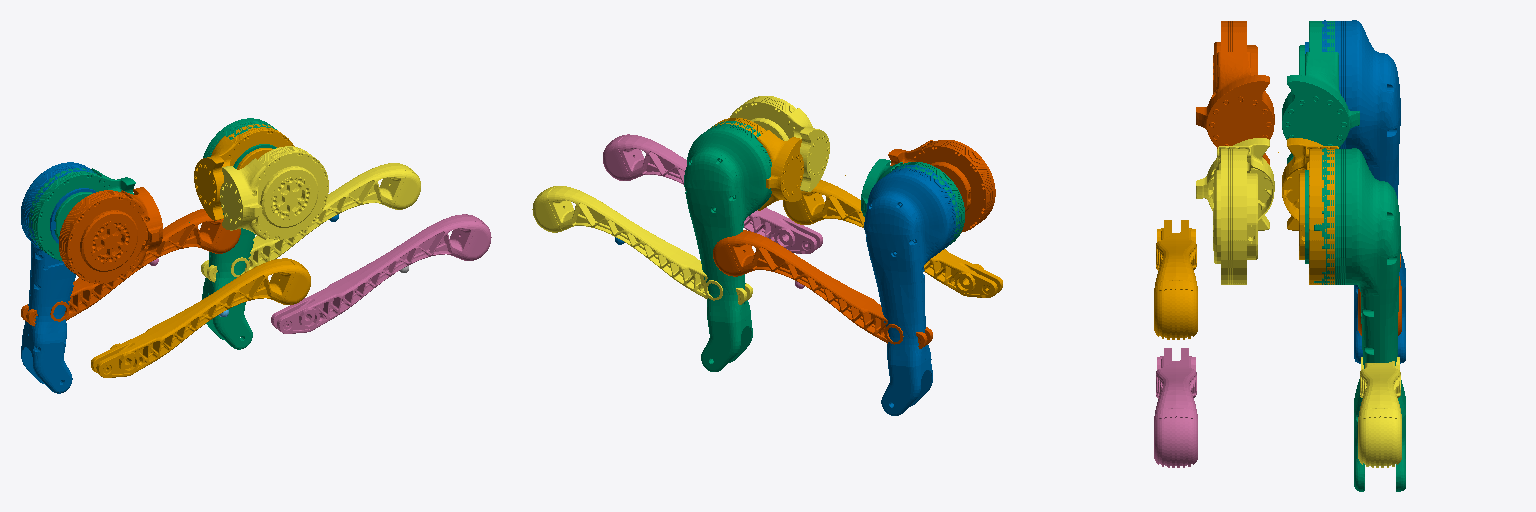
--- Render facts (derived) ---
The picture shows the robot from 3 angles, left to right: view 1: azimuth 30°, elevation 25°; view 2: azimuth 150°, elevation 25°; view 3: azimuth 270°, elevation 25°; orthographic projection.
Model go1 with 38 links and 37 joints (12 revolute, 25 fixed), rooted at base, posed joints at zero except 4 at the middle of their limits (FR_calf_joint = -1.78, FL_calf_joint = -1.78, RR_calf_joint = -1.78, RL_calf_joint = -1.78).
Visible links, largest first — view 1: FR_hip, RR_hip, RR_calf, FR_calf, RL_thigh, FL_calf, RL_calf, FL_thigh, RL_hip, FL_hip; view 2: RL_thigh, FL_thigh, FL_calf, RL_calf, FR_calf, RR_calf, RR_hip, FR_hip, FL_hip, RL_hip; view 3: FL_thigh, RL_thigh, FR_hip, RR_hip, RL_hip, FL_hip, FR_calf, RR_calf, FL_calf.
Link boxes in pixels (x1,y1,x2,y2): FR_hip: (220, 146, 328, 239); RR_hip: (59, 187, 162, 283); RR_calf: (91, 258, 310, 377); FR_calf: (271, 214, 491, 333); RL_thigh: (21, 162, 95, 393); FL_calf: (201, 163, 420, 282); RL_calf: (21, 209, 240, 326); FL_thigh: (202, 118, 276, 349); RL_hip: (29, 168, 135, 260); FL_hip: (194, 124, 294, 220); RL_thigh: (864, 165, 960, 415); FL_thigh: (684, 121, 771, 371); FL_calf: (532, 186, 752, 304); RL_calf: (713, 230, 932, 348); FR_calf: (603, 134, 822, 253); RR_calf: (783, 180, 1002, 297); RR_hip: (888, 140, 995, 232); FR_hip: (730, 96, 829, 191); FL_hip: (711, 118, 803, 210); RL_hip: (861, 159, 964, 246); FL_thigh: (1305, 148, 1405, 491); RL_thigh: (1305, 20, 1405, 363); FR_hip: (1196, 138, 1274, 284); RR_hip: (1196, 21, 1274, 164); RL_hip: (1282, 21, 1359, 163); FL_hip: (1282, 138, 1338, 284); FR_calf: (1154, 348, 1197, 467); RR_calf: (1154, 220, 1197, 339); FL_calf: (1358, 357, 1401, 467).
Bounding box of the posed robot: 0.8438 × 0.313 × 0.4589 m (x, y, z).
10 mesh visuals loaded from 7 distinct referenced files (3 Collada DAE); not drawn: 11 (reference not matched to a file when rendering).

robot.urdf — go1:
<?xml version="1.0" ?>
<!-- =================================================================================== -->
<!-- |    This document was autogenerated by xacro from robot.xacro                    | -->
<!-- |    EDITING THIS FILE BY HAND IS NOT RECOMMENDED                                 | -->
<!-- =================================================================================== -->
<robot name="go1" xmlns:xacro="http://www.ros.org/wiki/xacro">
  <material name="black">
    <color rgba="0.0 0.0 0.0 1.0"/>
  </material>
  <material name="blue">
    <color rgba="0.0 0.0 0.8 1.0"/>
  </material>
  <material name="green">
    <color rgba="0.0 0.8 0.0 1.0"/>
  </material>
  <material name="grey">
    <color rgba="0.2 0.2 0.2 1.0"/>
  </material>
  <material name="silver">
    <color rgba="0.913725490196 0.913725490196 0.847058823529 1.0"/>
  </material>
  <material name="orange">
    <color rgba="1.0 0.423529411765 0.0392156862745 1.0"/>
  </material>
  <material name="brown">
    <color rgba="0.870588235294 0.811764705882 0.764705882353 1.0"/>
  </material>
  <material name="red">
    <color rgba="0.8 0.0 0.0 1.0"/>
  </material>
  <material name="white">
    <color rgba="1.0 1.0 1.0 1.0"/>
  </material>
  <!-- ros_control plugin -->
  <gazebo>
    <plugin filename="libgazebo_ros_control.so" name="gazebo_ros_control">
      <robotNamespace>/go1_gazebo</robotNamespace>
      <robotSimType>gazebo_ros_control/DefaultRobotHWSim</robotSimType>
    </plugin>
  </gazebo>
  <!-- Show the trajectory of trunk center. -->
  <gazebo>
    <plugin filename="libLinkPlot3DPlugin.so" name="3dplot">
      <frequency>10</frequency>
      <plot>
        <link>base</link>
        <pose>0 0 0 0 0 0</pose>
        <material>Gazebo/Yellow</material>
      </plot>
    </plugin>
  </gazebo>
  <!-- Show the trajectory of foot. You can add another trajectory about another foot. -->
  <!-- <gazebo>
        <plugin name="3dplot" filename="libLinkPlot3DPlugin.so">
            <frequency>100</frequency>
            <plot>
                <link>FL_foot</link>
                <pose>0 0 0 0 0 0</pose>
                <material>Gazebo/Green</material>
            </plot>
        </plugin>
    </gazebo> -->
  <gazebo>
    <plugin filename="libgazebo_ros_force.so" name="gazebo_ros_force">
      <bodyName>trunk</bodyName>
      <topicName>/apply_force/trunk</topicName>
    </plugin>
  </gazebo>
  <gazebo reference="imu_link">
    <gravity>true</gravity>
    <sensor name="imu_sensor" type="imu">
      <always_on>true</always_on>
      <update_rate>1000</update_rate>
      <visualize>true</visualize>
      <topic>__default_topic__</topic>
      <plugin filename="libgazebo_ros_imu_sensor.so" name="imu_plugin">
        <topicName>trunk_imu</topicName>
        <bodyName>imu_link</bodyName>
        <updateRateHZ>1000.0</updateRateHZ>
        <gaussianNoise>0.0</gaussianNoise>
        <xyzOffset>0 0 0</xyzOffset>
        <rpyOffset>0 0 0</rpyOffset>
        <frameName>imu_link</frameName>
      </plugin>
      <pose>0 0 0 0 0 0</pose>
    </sensor>
  </gazebo>
  <!-- Depth camera -->
  <!-- <gazebo>
        <plugin name="camera_plugin" filename="libgazebo_ros_openni_kinect.so">
            <baseline>0.025</baseline>
            <always_on>true</always_on>
            <updateRate>0.0</updateRate>
            <cameraName>unitree_camera_left</cameraName>
            <frameName>depthCamera_link_left</frameName>
            <imageTopicName>rgb/imageRaw_left</imageTopicName>
            <depthImageTopicName>depth/imageRaw_left</depthImageTopicName>
            <pointCloudTopicName>depth/points_left</pointCloudTopicName>
            <cameraInfoTopicName>rgb/cameraInfo_left</cameraInfoTopicName>              
            <depthImageCameraInfoTopicName>depth/cameraInfo_left</depthImageCameraInfoTopicName>            
            <pointCloudCutoff>0.1</pointCloudCutoff>                
            <pointCloudCutoffMax>1.5</pointCloudCutoffMax>                
            <distortionK1>0.0</distortionK1>
            <distortionK2>0.0</distortionK2>
            <distortionK3>0.0</distortionK3>
            <distortionT1>0.0</distortionT1>
            <distortionT2>0.0</distortionT2>
            <CxPrime>0.0</CxPrime>
            <Cx>0.0045</Cx>
            <Cy>0.0039</Cy>
            <focalLength>0.004</focalLength>
            <hackBaseline>0.0</hackBaseline>
        </plugin>
    </gazebo> -->
  <!-- <gazebo reference="depthCamera_link_left">
        <sensor name="unitree_camera_left" type="depth_camera">
            <update_rate>16</update_rate>
            <always_on>true</always_on>
            <visualize>true</visualize>
            <camera>
                <horizontal_fov>2.094</horizontal_fov>
                <image>
                    <width>928</width>
                    <height>800</height>
                    <format>R8G8B8</format>
                </image>
                <depth_camera></depth_camera>
                <clip>
                    <near>0.1</near>
                    <far>100</far>
                </clip>
            </camera>
            <plugin name="camera_plugin" filename="libgazebo_ros_openni_kinect.so">
                <baseline>0.025</baseline>
                <always_on>true</always_on>
                <updateRate>0.0</updateRate>
                <cameraName>unitree_camera_left</cameraName>
                <frameName>depthCamera_link_left</frameName>
                <imageTopicName>rgb/imageRaw_left</imageTopicName>
                <depthImageTopicName>depth/imageRaw_left</depthImageTopicName>
                <pointCloudTopicName>depth/points_left</pointCloudTopicName>
                <cameraInfoTopicName>rgb/cameraInfo_left</cameraInfoTopicName>              
                <depthImageCameraInfoTopicName>depth/cameraInfo_left</depthImageCameraInfoTopicName>            
                <pointCloudCutoff>0.1</pointCloudCutoff>                
                <pointCloudCutoffMax>1.5</pointCloudCutoffMax>                
                <distortionK1>0.0</distortionK1>
                <distortionK2>0.0</distortionK2>
                <distortionK3>0.0</distortionK3>
                <distortionT1>0.0</distortionT1>
                <distortionT2>0.0</distortionT2>
                <CxPrime>0.0</CxPrime>
                <Cx>0.0045</Cx>
                <Cy>0.0039</Cy>
                <focalLength>0.004</focalLength>
                <hackBaseline>0.0</hackBaseline>
            </plugin>
        </sensor>
    </gazebo> -->
  <gazebo reference="depthCamera_link_left">
    <sensor name="camera_link_camera" type="depth">
      <update_rate>20</update_rate>
      <camera>
        <horizontal_fov>1.047198</horizontal_fov>
        <image>
          <width>640</width>
          <height>480</height>
          <format>R8G8B8</format>
        </image>
        <clip>
          <near>0.05</near>
          <far>3</far>
        </clip>
      </camera>
      <plugin filename="libgazebo_ros_openni_kinect.so" name="camera_link_controller">
        <baseline>0.2</baseline>
        <alwaysOn>true</alwaysOn>
        <updateRate>1.0</updateRate>
        <cameraName>camera_link_ir</cameraName>
        <imageTopicName>/camera_link/color/image_raw</imageTopicName>
        <cameraInfoTopicName>/camera_link/color/camera_info</cameraInfoTopicName>
        <depthImageTopicName>/camera_link/depth/image_raw</depthImageTopicName>
        <depthImageInfoTopicName>/camera_link/depth/camera_info</depthImageInfoTopicName>
        <pointCloudTopicName>/camera_link/depth/points</pointCloudTopicName>
        <frameName>depthCamera_link_left</frameName>
        <pointCloudCutoff>0.5</pointCloudCutoff>
        <pointCloudCutoffMax>3.0</pointCloudCutoffMax>
        <distortionK1>0.00000001</distortionK1>
        <distortionK2>0.00000001</distortionK2>
        <distortionK3>0.00000001</distortionK3>
        <distortionT1>0.00000001</distortionT1>
        <distortionT2>0.00000001</distortionT2>
        <CxPrime>0</CxPrime>
        <Cx>0</Cx>
        <Cy>0</Cy>
        <focalLength>0</focalLength>
        <hackBaseline>0</hackBaseline>
      </plugin>
    </sensor>
  </gazebo>
  <!-- Foot contacts. -->
  <gazebo reference="FR_calf">
    <sensor name="FR_foot_contact" type="contact">
      <update_rate>100</update_rate>
      <plugin filename="libunitreeFootContactPlugin.so" name="contactPlugin"/>
      <contact>
        <collision>FR_calf_fixed_joint_lump__FR_foot_collision_1</collision>
      </contact>
    </sensor>
  </gazebo>
  <gazebo reference="FL_calf">
    <sensor name="FL_foot_contact" type="contact">
      <update_rate>100</update_rate>
      <plugin filename="libunitreeFootContactPlugin.so" name="contactPlugin"/>
      <contact>
        <collision>FL_calf_fixed_joint_lump__FL_foot_collision_1</collision>
      </contact>
    </sensor>
  </gazebo>
  <gazebo reference="RR_calf">
    <sensor name="RR_foot_contact" type="contact">
      <update_rate>100</update_rate>
      <plugin filename="libunitreeFootContactPlugin.so" name="contactPlugin"/>
      <contact>
        <collision>RR_calf_fixed_joint_lump__RR_foot_collision_1</collision>
      </contact>
    </sensor>
  </gazebo>
  <gazebo reference="RL_calf">
    <sensor name="RL_foot_contact" type="contact">
      <update_rate>100</update_rate>
      <plugin filename="libunitreeFootContactPlugin.so" name="contactPlugin"/>
      <contact>
        <collision>RL_calf_fixed_joint_lump__RL_foot_collision_1</collision>
      </contact>
    </sensor>
  </gazebo>
  <!-- Visualization of Foot contacts. -->
  <gazebo reference="FR_foot">
    <visual>
      <plugin filename="libunitreeDrawForcePlugin.so" name="drawForcePlugin">
        <topicName>FR_foot_contact</topicName>
      </plugin>
    </visual>
  </gazebo>
  <gazebo reference="FL_foot">
    <visual>
      <plugin filename="libunitreeDrawForcePlugin.so" name="drawForcePlugin">
        <topicName>FL_foot_contact</topicName>
      </plugin>
    </visual>
  </gazebo>
  <gazebo reference="RR_foot">
    <visual>
      <plugin filename="libunitreeDrawForcePlugin.so" name="drawForcePlugin">
        <topicName>RR_foot_contact</topicName>
      </plugin>
    </visual>
  </gazebo>
  <gazebo reference="RL_foot">
    <visual>
      <plugin filename="libunitreeDrawForcePlugin.so" name="drawForcePlugin">
        <topicName>RL_foot_contact</topicName>
      </plugin>
    </visual>
  </gazebo>
  <gazebo reference="base">
    <material>Gazebo/Green</material>
    <turnGravityOff>false</turnGravityOff>
  </gazebo>
  <gazebo reference="trunk">
    <mu1>0.2</mu1>
    <mu2>0.2</mu2>
    <kp value="1000000.0"/>
    <kd value="1.0"/>
  </gazebo>
  <gazebo reference="stick_link">
    <mu1>0.2</mu1>
    <mu2>0.2</mu2>
    <material>Gazebo/White</material>
  </gazebo>
  <gazebo reference="imu_link">
    <mu1>0.2</mu1>
    <mu2>0.2</mu2>
    <material>Gazebo/Red</material>
  </gazebo>
  <!-- FL leg -->
  <gazebo reference="FL_hip">
    <mu1>0.2</mu1>
    <mu2>0.2</mu2>
    <material>Gazebo/DarkGrey</material>
  </gazebo>
  <gazebo reference="FL_thigh">
    <mu1>0.2</mu1>
    <mu2>0.2</mu2>
    <self_collide>1</self_collide>
    <material>Gazebo/DarkGrey</material>
    <kp value="1000000.0"/>
    <kd value="1.0"/>
  </gazebo>
  <gazebo reference="FL_calf">
    <mu1>0.2</mu1>
    <mu2>0.2</mu2>
    <self_collide>1</self_collide>
  </gazebo>
  <gazebo reference="FL_foot">
    <mu1>0.6</mu1>
    <mu2>0.6</mu2>
    <self_collide>1</self_collide>
    <material>Gazebo/DarkGrey</material>
    <kp value="1000000.0"/>
    <kd value="1.0"/>
  </gazebo>
  <!-- FR leg -->
  <gazebo reference="FR_hip">
    <mu1>0.2</mu1>
    <mu2>0.2</mu2>
    <material>Gazebo/DarkGrey</material>
  </gazebo>
  <gazebo reference="FR_thigh">
    <mu1>0.2</mu1>
    <mu2>0.2</mu2>
    <self_collide>1</self_collide>
    <material>Gazebo/DarkGrey</material>
    <kp value="1000000.0"/>
    <kd value="1.0"/>
  </gazebo>
  <gazebo reference="FR_calf">
    <mu1>0.2</mu1>
    <mu2>0.2</mu2>
    <self_collide>1</self_collide>
  </gazebo>
  <gazebo reference="FR_foot">
    <mu1>0.6</mu1>
    <mu2>0.6</mu2>
    <self_collide>1</self_collide>
    <material>Gazebo/DarkGrey</material>
    <kp value="1000000.0"/>
    <kd value="1.0"/>
  </gazebo>
  <!-- RL leg -->
  <gazebo reference="RL_hip">
    <mu1>0.2</mu1>
    <mu2>0.2</mu2>
    <material>Gazebo/DarkGrey</material>
  </gazebo>
  <gazebo reference="RL_thigh">
    <mu1>0.2</mu1>
    <mu2>0.2</mu2>
    <self_collide>1</self_collide>
    <material>Gazebo/DarkGrey</material>
    <kp value="1000000.0"/>
    <kd value="1.0"/>
  </gazebo>
  <gazebo reference="RL_calf">
    <mu1>0.2</mu1>
    <mu2>0.2</mu2>
    <self_collide>1</self_collide>
  </gazebo>
  <gazebo reference="RL_foot">
    <mu1>0.6</mu1>
    <mu2>0.6</mu2>
    <self_collide>1</self_collide>
    <material>Gazebo/DarkGrey</material>
    <kp value="1000000.0"/>
    <kd value="1.0"/>
  </gazebo>
  <!-- RR leg -->
  <gazebo reference="RR_hip">
    <mu1>0.2</mu1>
    <mu2>0.2</mu2>
    <material>Gazebo/DarkGrey</material>
  </gazebo>
  <gazebo reference="RR_thigh">
    <mu1>0.2</mu1>
    <mu2>0.2</mu2>
    <self_collide>1</self_collide>
    <material>Gazebo/DarkGrey</material>
    <kp value="1000000.0"/>
    <kd value="1.0"/>
  </gazebo>
  <gazebo reference="RR_calf">
    <mu1>0.2</mu1>
    <mu2>0.2</mu2>
    <self_collide>1</self_collide>
  </gazebo>
  <gazebo reference="RR_foot">
    <mu1>0.6</mu1>
    <mu2>0.6</mu2>
    <self_collide>1</self_collide>
    <material>Gazebo/DarkGrey</material>
    <kp value="1000000.0"/>
    <kd value="1.0"/>
  </gazebo>
  <!-- <xacro:include filename="$(find go1_gazebo)/launch/stairs.urdf.xacro"/> -->
  <!-- <xacro:stairs stairs="15" xpos="0" ypos="0" zpos="0" /> -->
  <!-- Debug mode will hung up the robot, use "true" or "false" to switch it. -->
  <!-- <xacro:if value="$(arg DEBUG)">
        <link name="world"/>
        <joint name="base_static_joint" type="fixed">
            <origin rpy="0 0 0" xyz="0 0 0"/>
            <parent link="world"/>
            <child link="base"/>
        </joint>
    </xacro:if>  -->
  <link name="base">
    <visual>
      <origin rpy="0 0 0" xyz="0 0 0"/>
      <geometry>
        <box size="0.001 0.001 0.001"/>
      </geometry>
    </visual>
  </link>
  <joint name="floating_base" type="fixed">
    <origin rpy="0 0 0" xyz="0 0 0"/>
    <parent link="base"/>
    <child link="trunk"/>
  </joint>
  <link name="trunk">
    <visual>
      <origin rpy="0 0 0" xyz="0 0 0"/>
      <geometry>
        <mesh filename="package://go1_description/meshes/trunk.dae" scale="1 1 1"/>
      </geometry>
      <!-- <material name="orange"/> -->
    </visual>
    <collision>
      <origin rpy="0 0 0" xyz="0 0 0"/>
      <geometry>
        <box size="0.3762 0.0935 0.114"/>
      </geometry>
    </collision>
    <inertial>
      <origin rpy="0 0 0" xyz="0.0223 0.002 -0.0005"/>
      <mass value="5.204"/>
      <inertia ixx="0.0168352186" ixy="0.0004636141" ixz="0.0002367952" iyy="0.0656071082" iyz="3.6671e-05" izz="0.0742720659"/>
    </inertial>
  </link>
  <joint name="imu_joint" type="fixed">
    <parent link="trunk"/>
    <child link="imu_link"/>
    <origin rpy="0 0 0" xyz="-0.01592 -0.06659 -0.00617"/>
  </joint>
  <link name="imu_link">
    <inertial>
      <mass value="0.001"/>
      <origin rpy="0 0 0" xyz="0 0 0"/>
      <inertia ixx="0.0001" ixy="0" ixz="0" iyy="0.0001" iyz="0" izz="0.0001"/>
    </inertial>
    <visual>
      <origin rpy="0 0 0" xyz="0 0 0"/>
      <geometry>
        <box size="0.001 0.001 0.001"/>
      </geometry>
      <!-- <material name="red"/> -->
    </visual>
    <collision>
      <origin rpy="0 0 0" xyz="0 0 0"/>
      <geometry>
        <box size=".001 .001 .001"/>
      </geometry>
    </collision>
  </link>
  <joint name="FR_hip_joint" type="revolute">
    <origin rpy="0 0 0" xyz="0.1881 -0.04675 0"/>
    <parent link="trunk"/>
    <child link="FR_hip"/>
    <axis xyz="1 0 0"/>
    <dynamics damping="0.01" friction="0.2"/>
    <limit effort="23.7" lower="-1.0471975512" upper="1.0471975512" velocity="30.1"/>
  </joint>
  <link name="FR_hip">
    <visual>
      <origin rpy="3.14159265359 0 0" xyz="0 0 0"/>
      <geometry>
        <mesh filename="package://go1_description/meshes/hip.dae" scale="1 1 1"/>
      </geometry>
      <!-- <material name="orange"/> -->
    </visual>
    <collision>
      <origin rpy="1.57079632679 0 0" xyz="0 0 0"/>
      <geometry>
        <cylinder length="0.04" radius="0.046"/>
      </geometry>
    </collision>
    <inertial>
      <origin rpy="0 0 0" xyz="-0.00541 0.00074 6e-06"/>
      <mass value="0.591"/>
      <inertia ixx="0.000374268192" ixy="-3.6844422e-05" ixz="-9.86754e-07" iyy="0.000635923669" iyz="1.172894e-06" izz="0.000457647394"/>
    </inertial>
  </link>
  <joint name="FR_hip_fixed" type="fixed">
    <origin rpy="0 0 0" xyz="0 -0.08 0"/>
    <parent link="FR_hip"/>
    <child link="FR_thigh_shoulder"/>
  </joint>
  <!-- this link is only for collision -->
  <link name="FR_thigh_shoulder">
    <collision>
      <origin rpy="1.57079632679 0 0" xyz="0 0 0"/>
      <geometry>
        <cylinder length="0.032" radius="0.041"/>
      </geometry>
    </collision>
  </link>
  <joint name="FR_thigh_joint" type="revolute">
    <origin rpy="0 0 0" xyz="0 -0.08 0"/>
    <parent link="FR_hip"/>
    <child link="FR_thigh"/>
    <axis xyz="0 1 0"/>
    <dynamics damping="0.01" friction="0.2"/>
    <limit effort="23.7" lower="-0.663225115758" upper="2.96705972839" velocity="30.1"/>
  </joint>
  <link name="FR_thigh">
    <visual>
      <origin rpy="0 0 0" xyz="0 0 0"/>
      <geometry>
        <mesh filename="package://go1_description/meshes/thigh_mirror.dae" scale="1 1 1"/>
      </geometry>
      <!-- <material name="orange"/> -->
    </visual>
    <collision>
      <origin rpy="0 1.57079632679 0" xyz="0 0 -0.1065"/>
      <geometry>
        <box size="0.213 0.0245 0.034"/>
      </geometry>
    </collision>
    <inertial>
      <origin rpy="0 0 0" xyz="-0.003468 0.018947 -0.032736"/>
      <mass value="0.92"/>
      <inertia ixx="0.005851561134" ixy="-1.783284e-06" ixz="0.000328291374" iyy="0.005596155105" iyz="-2.1430713e-05" izz="0.00107157026"/>
    </inertial>
  </link>
  <joint name="FR_calf_joint" type="revolute">
    <origin rpy="0 0 0" xyz="0 0 -0.213"/>
    <parent link="FR_thigh"/>
    <child link="FR_calf"/>
    <axis xyz="0 1 0"/>
    <dynamics damping="0.01" friction="0.2"/>
    <limit effort="23.7" lower="-2.72271363311" upper="-0.837758040957" velocity="30.1"/>
  </joint>
  <link name="FR_calf">
    <visual>
      <origin rpy="0 0 0" xyz="0 0 0"/>
      <geometry>
        <mesh filename="package://go1_description/meshes/calf.dae" scale="1 1 1"/>
      </geometry>
      <!-- <material name="orange"/> -->
    </visual>
    <collision>
      <origin rpy="0 1.57079632679 0" xyz="0 0 -0.1065"/>
      <geometry>
        <box size="0.213 0.016 0.016"/>
      </geometry>
    </collision>
    <inertial>
      <origin rpy="0 0 0" xyz="0.006286 0.001307 -0.122269"/>
      <mass value="0.131"/>
      <inertia ixx="0.002939186297" ixy="1.440899e-06" ixz="-0.00010535955" iyy="0.00295576935" iyz="-2.4397752e-05" izz="3.0273372e-05"/>
    </inertial>
  </link>
  <joint name="FR_foot_fixed" type="fixed">
    <origin rpy="0 0 0" xyz="0 0 -0.213"/>
    <parent link="FR_calf"/>
    <child link="FR_foot"/>
  </joint>
  <link name="FR_foot">
    <visual>
      <origin rpy="0 0 0" xyz="0 0 0"/>
      <geometry>
        <sphere radius="0.01"/>
      </geometry>
      <!-- <material name="orange"/> -->
    </visual>
    <collision>
      <origin rpy="0 0 0" xyz="0 0 0"/>
      <geometry>
        <sphere radius="0.02"/>
      </geometry>
    </collision>
    <inertial>
      <mass value="0.06"/>
      <inertia ixx="9.6e-06" ixy="0.0" ixz="0.0" iyy="9.6e-06" iyz="0.0" izz="9.6e-06"/>
    </inertial>
  </link>
  <transmission name="FR_hip_tran">
    <type>transmission_interface/SimpleTransmission</type>
    <joint name="FR_hip_joint">
      <hardwareInterface>hardware_interface/EffortJointInterface</hardwareInterface>
    </joint>
    <actuator name="FR_hip_motor">
      <hardwareInterface>hardware_interface/EffortJointInterface</hardwareInterface>
      <mechanicalReduction>1</mechanicalReduction>
    </actuator>
  </transmission>
  <transmission name="FR_thigh_tran">
    <type>transmission_interface/SimpleTransmission</type>
    <joint name="FR_thigh_joint">
      <hardwareInterface>hardware_interface/EffortJointInterface</hardwareInterface>
    </joint>
    <actuator name="FR_thigh_motor">
      <hardwareInterface>hardware_interface/EffortJointInterface</hardwareInterface>
      <mechanicalReduction>1</mechanicalReduction>
    </actuator>
  </transmission>
  <transmission name="FR_calf_tran">
    <type>transmission_interface/SimpleTransmission</type>
    <joint name="FR_calf_joint">
      <hardwareInterface>hardware_interface/EffortJointInterface</hardwareInterface>
    </joint>
    <actuator name="FR_calf_motor">
      <hardwareInterface>hardware_interface/EffortJointInterface</hardwareInterface>
      <mechanicalReduction>1</mechanicalReduction>
    </actuator>
  </transmission>
  <joint name="FL_hip_joint" type="revolute">
    <origin rpy="0 0 0" xyz="0.1881 0.04675 0"/>
    <parent link="trunk"/>
    <child link="FL_hip"/>
    <axis xyz="1 0 0"/>
    <dynamics damping="0.01" friction="0.2"/>
    <limit effort="23.7" lower="-1.0471975512" upper="1.0471975512" velocity="30.1"/>
  </joint>
  <link name="FL_hip">
    <visual>
      <origin rpy="0 0 0" xyz="0 0 0"/>
      <geometry>
        <mesh filename="package://go1_description/meshes/hip.dae" scale="1 1 1"/>
      </geometry>
      <!-- <material name="orange"/> -->
    </visual>
    <collision>
      <origin rpy="1.57079632679 0 0" xyz="0 0 0"/>
      <geometry>
        <cylinder length="0.04" radius="0.046"/>
      </geometry>
    </collision>
    <inertial>
      <origin rpy="0 0 0" xyz="-0.00541 -0.00074 6e-06"/>
      <mass value="0.591"/>
      <inertia ixx="0.000374268192" ixy="3.6844422e-05" ixz="-9.86754e-07" iyy="0.000635923669" iyz="-1.172894e-06" izz="0.000457647394"/>
    </inertial>
  </link>
  <joint name="FL_hip_fixed" type="fixed">
    <origin rpy="0 0 0" xyz="0 0.08 0"/>
    <parent link="FL_hip"/>
    <child link="FL_thigh_shoulder"/>
  </joint>
  <!-- this link is only for collision -->
  <link name="FL_thigh_shoulder">
    <collision>
      <origin rpy="1.57079632679 0 0" xyz="0 0 0"/>
      <geometry>
        <cylinder length="0.032" radius="0.041"/>
      </geometry>
    </collision>
  </link>
  <joint name="FL_thigh_joint" type="revolute">
    <origin rpy="0 0 0" xyz="0 0.08 0"/>
    <parent link="FL_hip"/>
    <child link="FL_thigh"/>
    <axis xyz="0 1 0"/>
    <dynamics damping="0.01" friction="0.2"/>
    <limit effort="23.7" lower="-0.663225115758" upper="2.96705972839" velocity="30.1"/>
  </joint>
  <link name="FL_thigh">
    <visual>
      <origin rpy="0 0 0" xyz="0 0 0"/>
      <geometry>
        <mesh filename="package://go1_description/meshes/thigh.dae" scale="1 1 1"/>
      </geometry>
      <!-- <material name="orange"/> -->
    </visual>
    <collision>
      <origin rpy="0 1.57079632679 0" xyz="0 0 -0.1065"/>
      <geometry>
        <box size="0.213 0.0245 0.034"/>
      </geometry>
    </collision>
    <inertial>
      <origin rpy="0 0 0" xyz="-0.003468 -0.018947 -0.032736"/>
      <mass value="0.92"/>
      <inertia ixx="0.005851561134" ixy="1.783284e-06" ixz="0.000328291374" iyy="0.005596155105" iyz="2.1430713e-05" izz="0.00107157026"/>
    </inertial>
  </link>
  <joint name="FL_calf_joint" type="revolute">
    <origin rpy="0 0 0" xyz="0 0 -0.213"/>
    <parent link="FL_thigh"/>
    <child link="FL_calf"/>
    <axis xyz="0 1 0"/>
    <dynamics damping="0.01" friction="0.2"/>
    <limit effort="23.7" lower="-2.72271363311" upper="-0.837758040957" velocity="30.1"/>
  </joint>
  <link name="FL_calf">
    <visual>
      <origin rpy="0 0 0" xyz="0 0 0"/>
      <geometry>
        <mesh filename="package://go1_description/meshes/calf.dae" scale="1 1 1"/>
      </geometry>
      <!-- <material name="orange"/> -->
    </visual>
    <collision>
      <origin rpy="0 1.57079632679 0" xyz="0 0 -0.1065"/>
      <geometry>
        <box size="0.213 0.016 0.016"/>
      </geometry>
    </collision>
    <inertial>
      <origin rpy="0 0 0" xyz="0.006286 0.001307 -0.122269"/>
      <mass value="0.131"/>
      <inertia ixx="0.002939186297" ixy="1.440899e-06" ixz="-0.00010535955" iyy="0.00295576935" iyz="-2.4397752e-05" izz="3.0273372e-05"/>
    </inertial>
  </link>
  <joint name="FL_foot_fixed" type="fixed">
    <origin rpy="0 0 0" xyz="0 0 -0.213"/>
    <parent link="FL_calf"/>
    <child link="FL_foot"/>
  </joint>
  <link name="FL_foot">
    <visual>
      <origin rpy="0 0 0" xyz="0 0 0"/>
      <geometry>
        <sphere radius="0.01"/>
      </geometry>
      <!-- <material name="orange"/> -->
    </visual>
    <collision>
      <origin rpy="0 0 0" xyz="0 0 0"/>
      <geometry>
        <sphere radius="0.02"/>
      </geometry>
    </collision>
    <inertial>
      <mass value="0.06"/>
      <inertia ixx="9.6e-06" ixy="0.0" ixz="0.0" iyy="9.6e-06" iyz="0.0" izz="9.6e-06"/>
    </inertial>
  </link>
  <transmission name="FL_hip_tran">
    <type>transmission_interface/SimpleTransmission</type>
    <joint name="FL_hip_joint">
      <hardwareInterface>hardware_interface/EffortJointInterface</hardwareInterface>
    </joint>
    <actuator name="FL_hip_motor">
      <hardwareInterface>hardware_interface/EffortJointInterface</hardwareInterface>
      <mechanicalReduction>1</mechanicalReduction>
    </actuator>
  </transmission>
  <transmission name="FL_thigh_tran">
    <type>transmission_interface/SimpleTransmission</type>
    <joint name="FL_thigh_joint">
      <hardwareInterface>hardware_interface/EffortJointInterface</hardwareInterface>
    </joint>
    <actuator name="FL_thigh_motor">
      <hardwareInterface>hardware_interface/EffortJointInterface</hardwareInterface>
      <mechanicalReduction>1</mechanicalReduction>
    </actuator>
  </transmission>
  <transmission name="FL_calf_tran">
    <type>transmission_interface/SimpleTransmission</type>
    <joint name="FL_calf_joint">
      <hardwareInterface>hardware_interface/EffortJointInterface</hardwareInterface>
    </joint>
    <actuator name="FL_calf_motor">
      <hardwareInterface>hardware_interface/EffortJointInterface</hardwareInterface>
      <mechanicalReduction>1</mechanicalReduction>
    </actuator>
  </transmission>
  <joint name="RR_hip_joint" type="revolute">
    <origin rpy="0 0 0" xyz="-0.1881 -0.04675 0"/>
    <parent link="trunk"/>
    <child link="RR_hip"/>
    <axis xyz="1 0 0"/>
    <dynamics damping="0.01" friction="0.2"/>
    <limit effort="23.7" lower="-1.0471975512" upper="1.0471975512" velocity="30.1"/>
  </joint>
  <link name="RR_hip">
    <visual>
      <origin rpy="3.14159265359 3.14159265359 0" xyz="0 0 0"/>
      <geometry>
        <mesh filename="package://go1_description/meshes/hip.dae" scale="1 1 1"/>
      </geometry>
      <!-- <material name="orange"/> -->
    </visual>
    <collision>
      <origin rpy="1.57079632679 0 0" xyz="0 0 0"/>
      <geometry>
        <cylinder length="0.04" radius="0.046"/>
      </geometry>
    </collision>
    <inertial>
      <origin rpy="0 0 0" xyz="0.00541 0.00074 6e-06"/>
      <mass value="0.591"/>
      <inertia ixx="0.000374268192" ixy="3.6844422e-05" ixz="9.86754e-07" iyy="0.000635923669" iyz="1.172894e-06" izz="0.000457647394"/>
    </inertial>
  </link>
  <joint name="RR_hip_fixed" type="fixed">
    <origin rpy="0 0 0" xyz="0 -0.08 0"/>
    <parent link="RR_hip"/>
    <child link="RR_thigh_shoulder"/>
  </joint>
  <!-- this link is only for collision -->
  <link name="RR_thigh_shoulder">
    <collision>
      <origin rpy="1.57079632679 0 0" xyz="0 0 0"/>
      <geometry>
        <cylinder length="0.032" radius="0.041"/>
      </geometry>
    </collision>
  </link>
  <joint name="RR_thigh_joint" type="revolute">
    <origin rpy="0 0 0" xyz="0 -0.08 0"/>
    <parent link="RR_hip"/>
    <child link="RR_thigh"/>
    <axis xyz="0 1 0"/>
    <dynamics damping="0.01" friction="0.2"/>
    <limit effort="23.7" lower="-0.663225115758" upper="2.96705972839" velocity="30.1"/>
  </joint>
  <link name="RR_thigh">
    <visual>
      <origin rpy="0 0 0" xyz="0 0 0"/>
      <geometry>
        <mesh filename="package://go1_description/meshes/thigh_mirror.dae" scale="1 1 1"/>
      </geometry>
      <!-- <material name="orange"/> -->
    </visual>
    <collision>
      <origin rpy="0 1.57079632679 0" xyz="0 0 -0.1065"/>
      <geometry>
        <box size="0.213 0.0245 0.034"/>
      </geometry>
    </collision>
    <inertial>
      <origin rpy="0 0 0" xyz="-0.003468 0.018947 -0.032736"/>
      <mass value="0.92"/>
      <inertia ixx="0.005851561134" ixy="-1.783284e-06" ixz="0.000328291374" iyy="0.005596155105" iyz="-2.1430713e-05" izz="0.00107157026"/>
    </inertial>
  </link>
  <joint name="RR_calf_joint" type="revolute">
    <origin rpy="0 0 0" xyz="0 0 -0.213"/>
    <parent link="RR_thigh"/>
    <child link="RR_calf"/>
    <axis xyz="0 1 0"/>
    <dynamics damping="0.01" friction="0.2"/>
    <limit effort="23.7" lower="-2.72271363311" upper="-0.837758040957" velocity="30.1"/>
  </joint>
  <link name="RR_calf">
    <visual>
      <origin rpy="0 0 0" xyz="0 0 0"/>
      <geometry>
        <mesh filename="package://go1_description/meshes/calf.dae" scale="1 1 1"/>
      </geometry>
      <!-- <material name="orange"/> -->
    </visual>
    <collision>
      <origin rpy="0 1.57079632679 0" xyz="0 0 -0.1065"/>
      <geometry>
        <box size="0.213 0.016 0.016"/>
      </geometry>
    </collision>
    <inertial>
      <origin rpy="0 0 0" xyz="0.006286 0.001307 -0.122269"/>
      <mass value="0.131"/>
      <inertia ixx="0.002939186297" ixy="1.440899e-06" ixz="-0.00010535955" iyy="0.00295576935" iyz="-2.4397752e-05" izz="3.0273372e-05"/>
    </inertial>
  </link>
  <joint name="RR_foot_fixed" type="fixed">
    <origin rpy="0 0 0" xyz="0 0 -0.213"/>
    <parent link="RR_calf"/>
    <child link="RR_foot"/>
  </joint>
  <link name="RR_foot">
    <visual>
      <origin rpy="0 0 0" xyz="0 0 0"/>
      <geometry>
        <sphere radius="0.01"/>
      </geometry>
      <!-- <material name="orange"/> -->
    </visual>
    <collision>
      <origin rpy="0 0 0" xyz="0 0 0"/>
      <geometry>
        <sphere radius="0.02"/>
      </geometry>
    </collision>
    <inertial>
      <mass value="0.06"/>
      <inertia ixx="9.6e-06" ixy="0.0" ixz="0.0" iyy="9.6e-06" iyz="0.0" izz="9.6e-06"/>
    </inertial>
  </link>
  <transmission name="RR_hip_tran">
    <type>transmission_interface/SimpleTransmission</type>
    <joint name="RR_hip_joint">
      <hardwareInterface>hardware_interface/EffortJointInterface</hardwareInterface>
    </joint>
    <actuator name="RR_hip_motor">
      <hardwareInterface>hardware_interface/EffortJointInterface</hardwareInterface>
      <mechanicalReduction>1</mechanicalReduction>
    </actuator>
  </transmission>
  <transmission name="RR_thigh_tran">
    <type>transmission_interface/SimpleTransmission</type>
    <joint name="RR_thigh_joint">
      <hardwareInterface>hardware_interface/EffortJointInterface</hardwareInterface>
    </joint>
    <actuator name="RR_thigh_motor">
      <hardwareInterface>hardware_interface/EffortJointInterface</hardwareInterface>
      <mechanicalReduction>1</mechanicalReduction>
    </actuator>
  </transmission>
  <transmission name="RR_calf_tran">
    <type>transmission_interface/SimpleTransmission</type>
    <joint name="RR_calf_joint">
      <hardwareInterface>hardware_interface/EffortJointInterface</hardwareInterface>
    </joint>
    <actuator name="RR_calf_motor">
      <hardwareInterface>hardware_interface/EffortJointInterface</hardwareInterface>
      <mechanicalReduction>1</mechanicalReduction>
    </actuator>
  </transmission>
  <joint name="RL_hip_joint" type="revolute">
    <origin rpy="0 0 0" xyz="-0.1881 0.04675 0"/>
    <parent link="trunk"/>
    <child link="RL_hip"/>
    <axis xyz="1 0 0"/>
    <dynamics damping="0.01" friction="0.2"/>
    <limit effort="23.7" lower="-1.0471975512" upper="1.0471975512" velocity="30.1"/>
  </joint>
  <link name="RL_hip">
    <visual>
      <origin rpy="0 3.14159265359 0" xyz="0 0 0"/>
      <geometry>
        <mesh filename="package://go1_description/meshes/hip.dae" scale="1 1 1"/>
      </geometry>
      <!-- <material name="orange"/> -->
    </visual>
    <collision>
      <origin rpy="1.57079632679 0 0" xyz="0 0 0"/>
      <geometry>
        <cylinder length="0.04" radius="0.046"/>
      </geometry>
    </collision>
    <inertial>
      <origin rpy="0 0 0" xyz="0.00541 -0.00074 6e-06"/>
      <mass value="0.591"/>
      <inertia ixx="0.000374268192" ixy="-3.6844422e-05" ixz="9.86754e-07" iyy="0.000635923669" iyz="-1.172894e-06" izz="0.000457647394"/>
    </inertial>
  </link>
  <joint name="RL_hip_fixed" type="fixed">
    <origin rpy="0 0 0" xyz="0 0.08 0"/>
    <parent link="RL_hip"/>
    <child link="RL_thigh_shoulder"/>
  </joint>
  <!-- this link is only for collision -->
  <link name="RL_thigh_shoulder">
    <collision>
      <origin rpy="1.57079632679 0 0" xyz="0 0 0"/>
      <geometry>
        <cylinder length="0.032" radius="0.041"/>
      </geometry>
    </collision>
  </link>
  <joint name="RL_thigh_joint" type="revolute">
    <origin rpy="0 0 0" xyz="0 0.08 0"/>
    <parent link="RL_hip"/>
    <child link="RL_thigh"/>
    <axis xyz="0 1 0"/>
    <dynamics damping="0.01" friction="0.2"/>
    <limit effort="23.7" lower="-0.663225115758" upper="2.96705972839" velocity="30.1"/>
  </joint>
  <link name="RL_thigh">
    <visual>
      <origin rpy="0 0 0" xyz="0 0 0"/>
      <geometry>
        <mesh filename="package://go1_description/meshes/thigh.dae" scale="1 1 1"/>
      </geometry>
      <!-- <material name="orange"/> -->
    </visual>
    <collision>
      <origin rpy="0 1.57079632679 0" xyz="0 0 -0.1065"/>
      <geometry>
        <box size="0.213 0.0245 0.034"/>
      </geometry>
    </collision>
    <inertial>
      <origin rpy="0 0 0" xyz="-0.003468 -0.018947 -0.032736"/>
      <mass value="0.92"/>
      <inertia ixx="0.005851561134" ixy="1.783284e-06" ixz="0.000328291374" iyy="0.005596155105" iyz="2.1430713e-05" izz="0.00107157026"/>
    </inertial>
  </link>
  <joint name="RL_calf_joint" type="revolute">
    <origin rpy="0 0 0" xyz="0 0 -0.213"/>
    <parent link="RL_thigh"/>
    <child link="RL_calf"/>
    <axis xyz="0 1 0"/>
    <dynamics damping="0.01" friction="0.2"/>
    <limit effort="23.7" lower="-2.72271363311" upper="-0.837758040957" velocity="30.1"/>
  </joint>
  <link name="RL_calf">
    <visual>
      <origin rpy="0 0 0" xyz="0 0 0"/>
      <geometry>
        <mesh filename="package://go1_description/meshes/calf.dae" scale="1 1 1"/>
      </geometry>
      <!-- <material name="orange"/> -->
    </visual>
    <collision>
      <origin rpy="0 1.57079632679 0" xyz="0 0 -0.1065"/>
      <geometry>
        <box size="0.213 0.016 0.016"/>
      </geometry>
    </collision>
    <inertial>
      <origin rpy="0 0 0" xyz="0.006286 0.001307 -0.122269"/>
      <mass value="0.131"/>
      <inertia ixx="0.002939186297" ixy="1.440899e-06" ixz="-0.00010535955" iyy="0.00295576935" iyz="-2.4397752e-05" izz="3.0273372e-05"/>
    </inertial>
  </link>
  <joint name="RL_foot_fixed" type="fixed">
    <origin rpy="0 0 0" xyz="0 0 -0.213"/>
    <parent link="RL_calf"/>
    <child link="RL_foot"/>
  </joint>
  <link name="RL_foot">
    <visual>
      <origin rpy="0 0 0" xyz="0 0 0"/>
      <geometry>
        <sphere radius="0.01"/>
      </geometry>
      <!-- <material name="orange"/> -->
    </visual>
    <collision>
      <origin rpy="0 0 0" xyz="0 0 0"/>
      <geometry>
        <sphere radius="0.02"/>
      </geometry>
    </collision>
    <inertial>
      <mass value="0.06"/>
      <inertia ixx="9.6e-06" ixy="0.0" ixz="0.0" iyy="9.6e-06" iyz="0.0" izz="9.6e-06"/>
    </inertial>
  </link>
  <transmission name="RL_hip_tran">
    <type>transmission_interface/SimpleTransmission</type>
    <joint name="RL_hip_joint">
      <hardwareInterface>hardware_interface/EffortJointInterface</hardwareInterface>
    </joint>
    <actuator name="RL_hip_motor">
      <hardwareInterface>hardware_interface/EffortJointInterface</hardwareInterface>
      <mechanicalReduction>1</mechanicalReduction>
    </actuator>
  </transmission>
  <transmission name="RL_thigh_tran">
    <type>transmission_interface/SimpleTransmission</type>
    <joint name="RL_thigh_joint">
      <hardwareInterface>hardware_interface/EffortJointInterface</hardwareInterface>
    </joint>
    <actuator name="RL_thigh_motor">
      <hardwareInterface>hardware_interface/EffortJointInterface</hardwareInterface>
      <mechanicalReduction>1</mechanicalReduction>
    </actuator>
  </transmission>
  <transmission name="RL_calf_tran">
    <type>transmission_interface/SimpleTransmission</type>
    <joint name="RL_calf_joint">
      <hardwareInterface>hardware_interface/EffortJointInterface</hardwareInterface>
    </joint>
    <actuator name="RL_calf_motor">
      <hardwareInterface>hardware_interface/EffortJointInterface</hardwareInterface>
      <mechanicalReduction>1</mechanicalReduction>
    </actuator>
  </transmission>
  <joint name="camera_joint_face" type="fixed">
    <origin rpy="3.14159265359 0 0" xyz="0.2785 0.0125 0.0167"/>
    <parent link="trunk"/>
    <child link="camera_face"/>
  </joint>
  <link name="camera_face">
    <collision>
      <origin rpy="0 0 0" xyz="0 0 0"/>
      <geometry>
        <box size=".001 .001 .001"/>
      </geometry>
    </collision>
    <visual>
      <origin rpy="0 0 0" xyz="0 0 0"/>
      <geometry>
        <mesh filename="package://go1_description/meshes/depthCamera.dae" scale="1 1 1"/>
      </geometry>
    </visual>
    <inertial>
      <mass value="1e-5"/>
      <origin rpy="0 0 0" xyz="0 0 0"/>
      <inertia ixx="1e-6" ixy="0" ixz="0" iyy="1e-6" iyz="0" izz="1e-6"/>
    </inertial>
  </link>
  <joint name="camera_optical_joint_face" type="fixed">
    <origin rpy="-1.57079632679 0 -1.57079632679" xyz="0 0 0"/>
    <parent link="camera_face"/>
    <child link="camera_optical_face"/>
  </joint>
  <link name="camera_optical_face">
        </link>
  <gazebo reference="camera_face">
    <!-- <material>Gazebo/Black</material> -->
    <sensor name="camera_face_camera" type="depth">
      <update_rate>16</update_rate>
      <camera>
        <horizontal_fov>2.094</horizontal_fov>
        <image>
          <width>928</width>
          <height>800</height>
          <format>R8G8B8</format>
        </image>
        <clip>
          <near>0.1</near>
          <far>5</far>
        </clip>
      </camera>
      <plugin filename="libgazebo_ros_openni_kinect.so" name="camera_face_controller">
        <baseline>0.025</baseline>
        <alwaysOn>true</alwaysOn>
        <updateRate>0.0</updateRate>
        <cameraName>camera_face_ir</cameraName>
        <imageTopicName>/camera_face/color/image_raw</imageTopicName>
        <cameraInfoTopicName>/camera_face/color/camera_info</cameraInfoTopicName>
        <depthImageTopicName>/camera_face/depth/image_raw</depthImageTopicName>
        <depthImageInfoTopicName>/camera_face/depth/camera_info</depthImageInfoTopicName>
        <!-- <pointCloudTopicName>/camera_${name}/depth/points</pointCloudTopicName> -->
        <pointCloudTopicName>/cam1/point_cloud_face</pointCloudTopicName>
        <frameName>camera_optical_face</frameName>
        <pointCloudCutoff>0.1</pointCloudCutoff>
        <pointCloudCutoffMax>1.5</pointCloudCutoffMax>
        <distortionK1>0.0</distortionK1>
        <distortionK2>0.0</distortionK2>
        <distortionK3>0.0</distortionK3>
        <distortionT1>0.0</distortionT1>
        <distortionT2>0.0</distortionT2>
        <CxPrime>0</CxPrime>
        <Cx>0.0045</Cx>
        <Cy>0.0039</Cy>
        <focalLength>0</focalLength>
        <hackBaseline>0</hackBaseline>
      </plugin>
    </sensor>
  </gazebo>
  <joint name="camera_joint_chin" type="fixed">
    <origin rpy="3.14159265359 1.57079632679 0" xyz="0.2522 0.0125 -0.0436"/>
    <parent link="trunk"/>
    <child link="camera_chin"/>
  </joint>
  <link name="camera_chin">
    <collision>
      <origin rpy="0 0 0" xyz="0 0 0"/>
      <geometry>
        <box size=".001 .001 .001"/>
      </geometry>
    </collision>
    <visual>
      <origin rpy="0 0 0" xyz="0 0 0"/>
      <geometry>
        <mesh filename="package://go1_description/meshes/depthCamera.dae" scale="1 1 1"/>
      </geometry>
    </visual>
    <inertial>
      <mass value="1e-5"/>
      <origin rpy="0 0 0" xyz="0 0 0"/>
      <inertia ixx="1e-6" ixy="0" ixz="0" iyy="1e-6" iyz="0" izz="1e-6"/>
    </inertial>
  </link>
  <joint name="camera_optical_joint_chin" type="fixed">
    <origin rpy="-1.57079632679 0 -1.57079632679" xyz="0 0 0"/>
    <parent link="camera_chin"/>
    <child link="camera_optical_chin"/>
  </joint>
  <link name="camera_optical_chin">
        </link>
  <gazebo reference="camera_chin">
    <!-- <material>Gazebo/Black</material> -->
    <sensor name="camera_chin_camera" type="depth">
      <update_rate>16</update_rate>
      <camera>
        <horizontal_fov>2.094</horizontal_fov>
        <image>
          <width>928</width>
          <height>800</height>
          <format>R8G8B8</format>
        </image>
        <clip>
          <near>0.1</near>
          <far>5</far>
        </clip>
      </camera>
      <plugin filename="libgazebo_ros_openni_kinect.so" name="camera_chin_controller">
        <baseline>0.025</baseline>
        <alwaysOn>true</alwaysOn>
        <updateRate>0.0</updateRate>
        <cameraName>camera_chin_ir</cameraName>
        <imageTopicName>/camera_chin/color/image_raw</imageTopicName>
        <cameraInfoTopicName>/camera_chin/color/camera_info</cameraInfoTopicName>
        <depthImageTopicName>/camera_chin/depth/image_raw</depthImageTopicName>
        <depthImageInfoTopicName>/camera_chin/depth/camera_info</depthImageInfoTopicName>
        <!-- <pointCloudTopicName>/camera_${name}/depth/points</pointCloudTopicName> -->
        <pointCloudTopicName>/cam2/point_cloud_chin</pointCloudTopicName>
        <frameName>camera_optical_chin</frameName>
        <pointCloudCutoff>0.1</pointCloudCutoff>
        <pointCloudCutoffMax>1.5</pointCloudCutoffMax>
        <distortionK1>0.0</distortionK1>
        <distortionK2>0.0</distortionK2>
        <distortionK3>0.0</distortionK3>
        <distortionT1>0.0</distortionT1>
        <distortionT2>0.0</distortionT2>
        <CxPrime>0</CxPrime>
        <Cx>0.0045</Cx>
        <Cy>0.0039</Cy>
        <focalLength>0</focalLength>
        <hackBaseline>0</hackBaseline>
      </plugin>
    </sensor>
  </gazebo>
  <joint name="camera_joint_left" type="fixed">
    <origin rpy="3.14159265359 0.2618 1.57079632679" xyz="-0.066 0.082 -0.0176"/>
    <parent link="trunk"/>
    <child link="camera_left"/>
  </joint>
  <link name="camera_left">
    <collision>
      <origin rpy="0 0 0" xyz="0 0 0"/>
      <geometry>
        <box size=".001 .001 .001"/>
      </geometry>
    </collision>
    <visual>
      <origin rpy="0 0 0" xyz="0 0 0"/>
      <geometry>
        <mesh filename="package://go1_description/meshes/depthCamera.dae" scale="1 1 1"/>
      </geometry>
    </visual>
    <inertial>
      <mass value="1e-5"/>
      <origin rpy="0 0 0" xyz="0 0 0"/>
      <inertia ixx="1e-6" ixy="0" ixz="0" iyy="1e-6" iyz="0" izz="1e-6"/>
    </inertial>
  </link>
  <joint name="camera_optical_joint_left" type="fixed">
    <origin rpy="-1.57079632679 0 -1.57079632679" xyz="0 0 0"/>
    <parent link="camera_left"/>
    <child link="camera_optical_left"/>
  </joint>
  <link name="camera_optical_left">
        </link>
  <gazebo reference="camera_left">
    <!-- <material>Gazebo/Black</material> -->
    <sensor name="camera_left_camera" type="depth">
      <update_rate>16</update_rate>
      <camera>
        <horizontal_fov>2.094</horizontal_fov>
        <image>
          <width>928</width>
          <height>800</height>
          <format>R8G8B8</format>
        </image>
        <clip>
          <near>0.1</near>
          <far>5</far>
        </clip>
      </camera>
      <plugin filename="libgazebo_ros_openni_kinect.so" name="camera_left_controller">
        <baseline>0.025</baseline>
        <alwaysOn>true</alwaysOn>
        <updateRate>0.0</updateRate>
        <cameraName>camera_left_ir</cameraName>
        <imageTopicName>/camera_left/color/image_raw</imageTopicName>
        <cameraInfoTopicName>/camera_left/color/camera_info</cameraInfoTopicName>
        <depthImageTopicName>/camera_left/depth/image_raw</depthImageTopicName>
        <depthImageInfoTopicName>/camera_left/depth/camera_info</depthImageInfoTopicName>
        <!-- <pointCloudTopicName>/camera_${name}/depth/points</pointCloudTopicName> -->
        <pointCloudTopicName>/cam3/point_cloud_left</pointCloudTopicName>
        <frameName>camera_optical_left</frameName>
        <pointCloudCutoff>0.1</pointCloudCutoff>
        <pointCloudCutoffMax>1.5</pointCloudCutoffMax>
        <distortionK1>0.0</distortionK1>
        <distortionK2>0.0</distortionK2>
        <distortionK3>0.0</distortionK3>
        <distortionT1>0.0</distortionT1>
        <distortionT2>0.0</distortionT2>
        <CxPrime>0</CxPrime>
        <Cx>0.0045</Cx>
        <Cy>0.0039</Cy>
        <focalLength>0</focalLength>
        <hackBaseline>0</hackBaseline>
      </plugin>
    </sensor>
  </gazebo>
  <joint name="camera_joint_right" type="fixed">
    <origin rpy="3.14159265359 0.2618 -1.57079632679" xyz="-0.041 -0.082 -0.0176"/>
    <parent link="trunk"/>
    <child link="camera_right"/>
  </joint>
  <link name="camera_right">
    <collision>
      <origin rpy="0 0 0" xyz="0 0 0"/>
      <geometry>
        <box size=".001 .001 .001"/>
      </geometry>
    </collision>
    <visual>
      <origin rpy="0 0 0" xyz="0 0 0"/>
      <geometry>
        <mesh filename="package://go1_description/meshes/depthCamera.dae" scale="1 1 1"/>
      </geometry>
    </visual>
    <inertial>
      <mass value="1e-5"/>
      <origin rpy="0 0 0" xyz="0 0 0"/>
      <inertia ixx="1e-6" ixy="0" ixz="0" iyy="1e-6" iyz="0" izz="1e-6"/>
    </inertial>
  </link>
  <joint name="camera_optical_joint_right" type="fixed">
    <origin rpy="-1.57079632679 0 -1.57079632679" xyz="0 0 0"/>
    <parent link="camera_right"/>
    <child link="camera_optical_right"/>
  </joint>
  <link name="camera_optical_right">
        </link>
  <gazebo reference="camera_right">
    <!-- <material>Gazebo/Black</material> -->
    <sensor name="camera_right_camera" type="depth">
      <update_rate>16</update_rate>
      <camera>
        <horizontal_fov>2.094</horizontal_fov>
        <image>
          <width>928</width>
          <height>800</height>
          <format>R8G8B8</format>
        </image>
        <clip>
          <near>0.1</near>
          <far>5</far>
        </clip>
      </camera>
      <plugin filename="libgazebo_ros_openni_kinect.so" name="camera_right_controller">
        <baseline>0.025</baseline>
        <alwaysOn>true</alwaysOn>
        <updateRate>0.0</updateRate>
        <cameraName>camera_right_ir</cameraName>
        <imageTopicName>/camera_right/color/image_raw</imageTopicName>
        <cameraInfoTopicName>/camera_right/color/camera_info</cameraInfoTopicName>
        <depthImageTopicName>/camera_right/depth/image_raw</depthImageTopicName>
        <depthImageInfoTopicName>/camera_right/depth/camera_info</depthImageInfoTopicName>
        <!-- <pointCloudTopicName>/camera_${name}/depth/points</pointCloudTopicName> -->
        <pointCloudTopicName>/cam4/point_cloud_right</pointCloudTopicName>
        <frameName>camera_optical_right</frameName>
        <pointCloudCutoff>0.1</pointCloudCutoff>
        <pointCloudCutoffMax>1.5</pointCloudCutoffMax>
        <distortionK1>0.0</distortionK1>
        <distortionK2>0.0</distortionK2>
        <distortionK3>0.0</distortionK3>
        <distortionT1>0.0</distortionT1>
        <distortionT2>0.0</distortionT2>
        <CxPrime>0</CxPrime>
        <Cx>0.0045</Cx>
        <Cy>0.0039</Cy>
        <focalLength>0</focalLength>
        <hackBaseline>0</hackBaseline>
      </plugin>
    </sensor>
  </gazebo>
  <joint name="camera_joint_rearDown" type="fixed">
    <origin rpy="3.14159265359 1.57079632679 0" xyz="-0.0825 0.0125 -0.04365"/>
    <parent link="trunk"/>
    <child link="camera_rearDown"/>
  </joint>
  <link name="camera_rearDown">
    <collision>
      <origin rpy="0 0 0" xyz="0 0 0"/>
      <geometry>
        <box size=".001 .001 .001"/>
      </geometry>
    </collision>
    <visual>
      <origin rpy="0 0 0" xyz="0 0 0"/>
      <geometry>
        <mesh filename="package://go1_description/meshes/depthCamera.dae" scale="1 1 1"/>
      </geometry>
    </visual>
    <inertial>
      <mass value="1e-5"/>
      <origin rpy="0 0 0" xyz="0 0 0"/>
      <inertia ixx="1e-6" ixy="0" ixz="0" iyy="1e-6" iyz="0" izz="1e-6"/>
    </inertial>
  </link>
  <joint name="camera_optical_joint_rearDown" type="fixed">
    <origin rpy="-1.57079632679 0 -1.57079632679" xyz="0 0 0"/>
    <parent link="camera_rearDown"/>
    <child link="camera_optical_rearDown"/>
  </joint>
  <link name="camera_optical_rearDown">
        </link>
  <gazebo reference="camera_rearDown">
    <!-- <material>Gazebo/Black</material> -->
    <sensor name="camera_rearDown_camera" type="depth">
      <update_rate>16</update_rate>
      <camera>
        <horizontal_fov>2.094</horizontal_fov>
        <image>
          <width>928</width>
          <height>800</height>
          <format>R8G8B8</format>
        </image>
        <clip>
          <near>0.1</near>
          <far>5</far>
        </clip>
      </camera>
      <plugin filename="libgazebo_ros_openni_kinect.so" name="camera_rearDown_controller">
        <baseline>0.025</baseline>
        <alwaysOn>true</alwaysOn>
        <updateRate>0.0</updateRate>
        <cameraName>camera_rearDown_ir</cameraName>
        <imageTopicName>/camera_rearDown/color/image_raw</imageTopicName>
        <cameraInfoTopicName>/camera_rearDown/color/camera_info</cameraInfoTopicName>
        <depthImageTopicName>/camera_rearDown/depth/image_raw</depthImageTopicName>
        <depthImageInfoTopicName>/camera_rearDown/depth/camera_info</depthImageInfoTopicName>
        <!-- <pointCloudTopicName>/camera_${name}/depth/points</pointCloudTopicName> -->
        <pointCloudTopicName>/cam5/point_cloud_rearDown</pointCloudTopicName>
        <frameName>camera_optical_rearDown</frameName>
        <pointCloudCutoff>0.1</pointCloudCutoff>
        <pointCloudCutoffMax>1.5</pointCloudCutoffMax>
        <distortionK1>0.0</distortionK1>
        <distortionK2>0.0</distortionK2>
        <distortionK3>0.0</distortionK3>
        <distortionT1>0.0</distortionT1>
        <distortionT2>0.0</distortionT2>
        <CxPrime>0</CxPrime>
        <Cx>0.0045</Cx>
        <Cy>0.0039</Cy>
        <focalLength>0</focalLength>
        <hackBaseline>0</hackBaseline>
      </plugin>
    </sensor>
  </gazebo>
  <joint name="camera_laserscan_joint_left" type="fixed">
    <origin rpy="0 0.2618 0" xyz="0 0 0"/>
    <parent link="camera_left"/>
    <child link="camera_laserscan_link_left"/>
  </joint>
  <link name="camera_laserscan_link_left">
    </link>
  <joint name="camera_laserscan_joint_right" type="fixed">
    <origin rpy="0 0.2618 0" xyz="0 0 0"/>
    <parent link="camera_right"/>
    <child link="camera_laserscan_link_right"/>
  </joint>
  <link name="camera_laserscan_link_right">
    </link>
  <joint name="ultraSound_joint_left" type="fixed">
    <origin rpy="0 0.2618 1.57079632679" xyz="-0.0535  0.0826 0.00868"/>
    <parent link="trunk"/>
    <child link="ultraSound_left"/>
  </joint>
  <link name="ultraSound_left">
    <collision>
      <origin rpy="0 0 0" xyz="0 0 0"/>
      <geometry>
        <box size=".001 .001 .001"/>
      </geometry>
    </collision>
    <visual>
      <origin rpy="0 0 0" xyz="0 0 0"/>
      <geometry>
        <mesh filename="package://go1_description/meshes/ultraSound.dae" scale="1 1 1"/>
      </geometry>
      <material name="black"/>
    </visual>
    <inertial>
      <mass value="1e-5"/>
      <origin rpy="0 0 0" xyz="0 0 0"/>
      <inertia ixx="1e-6" ixy="0" ixz="0" iyy="1e-6" iyz="0" izz="1e-6"/>
    </inertial>
  </link>
  <joint name="ultraSound_joint_right" type="fixed">
    <origin rpy="0 0.2618 -1.57079632679" xyz="-0.0535 -0.0826 0.00868"/>
    <parent link="trunk"/>
    <child link="ultraSound_right"/>
  </joint>
  <link name="ultraSound_right">
    <collision>
      <origin rpy="0 0 0" xyz="0 0 0"/>
      <geometry>
        <box size=".001 .001 .001"/>
      </geometry>
    </collision>
    <visual>
      <origin rpy="0 0 0" xyz="0 0 0"/>
      <geometry>
        <mesh filename="package://go1_description/meshes/ultraSound.dae" scale="1 1 1"/>
      </geometry>
      <material name="black"/>
    </visual>
    <inertial>
      <mass value="1e-5"/>
      <origin rpy="0 0 0" xyz="0 0 0"/>
      <inertia ixx="1e-6" ixy="0" ixz="0" iyy="1e-6" iyz="0" izz="1e-6"/>
    </inertial>
  </link>
  <joint name="ultraSound_joint_face" type="fixed">
    <origin rpy="0 0 0" xyz="0.2747 0.0 -0.0088"/>
    <parent link="trunk"/>
    <child link="ultraSound_face"/>
  </joint>
  <link name="ultraSound_face">
    <collision>
      <origin rpy="0 0 0" xyz="0 0 0"/>
      <geometry>
        <box size=".001 .001 .001"/>
      </geometry>
    </collision>
    <visual>
      <origin rpy="0 0 0" xyz="0 0 0"/>
      <geometry>
        <mesh filename="package://go1_description/meshes/ultraSound.dae" scale="1 1 1"/>
      </geometry>
      <material name="black"/>
    </visual>
    <inertial>
      <mass value="1e-5"/>
      <origin rpy="0 0 0" xyz="0 0 0"/>
      <inertia ixx="1e-6" ixy="0" ixz="0" iyy="1e-6" iyz="0" izz="1e-6"/>
    </inertial>
  </link>
</robot>
